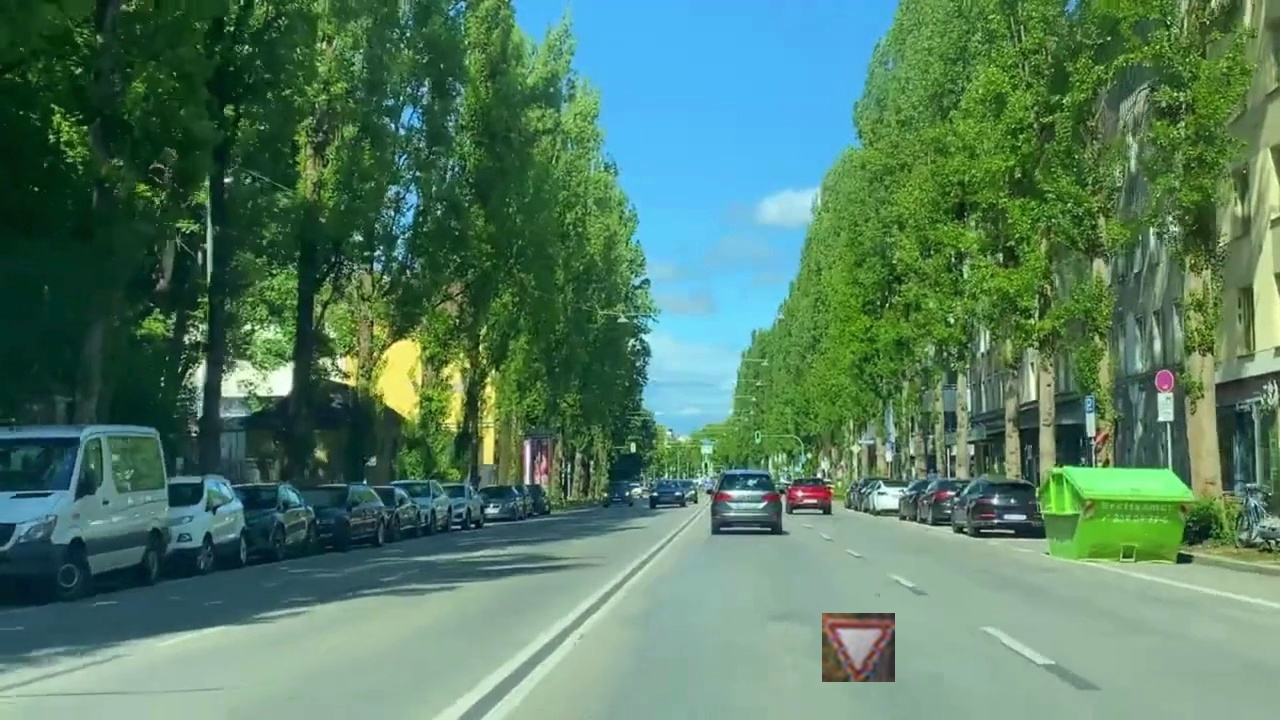Yield: (822, 613, 895, 682)
